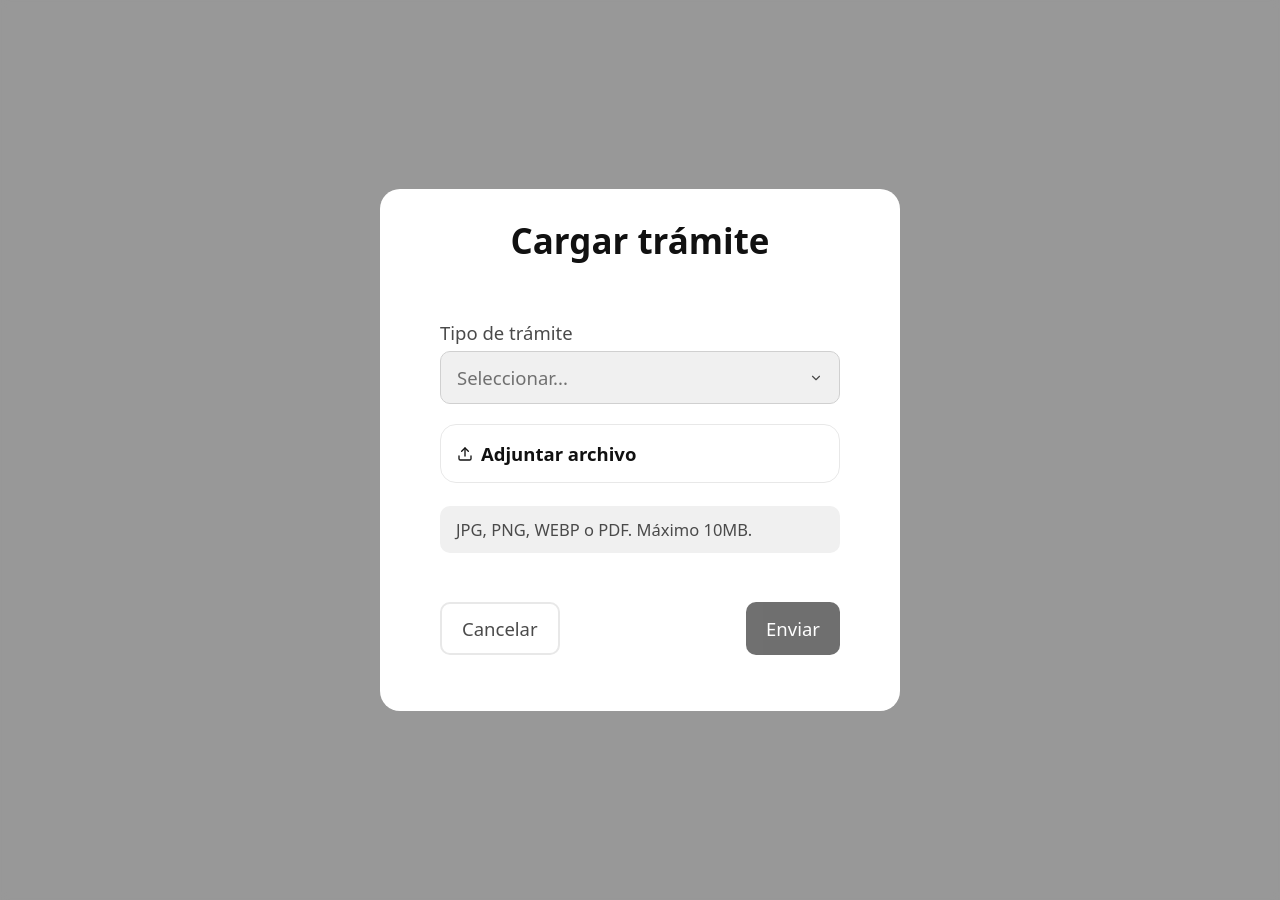
Test case: SubirTramiteForm › muestra el aviso de vencimiento si el tipo lo requiere
Select "Apto médico" in the dropdown labelled "Tipo de trámite" at (506, 333), box 440,320 -> 573,346
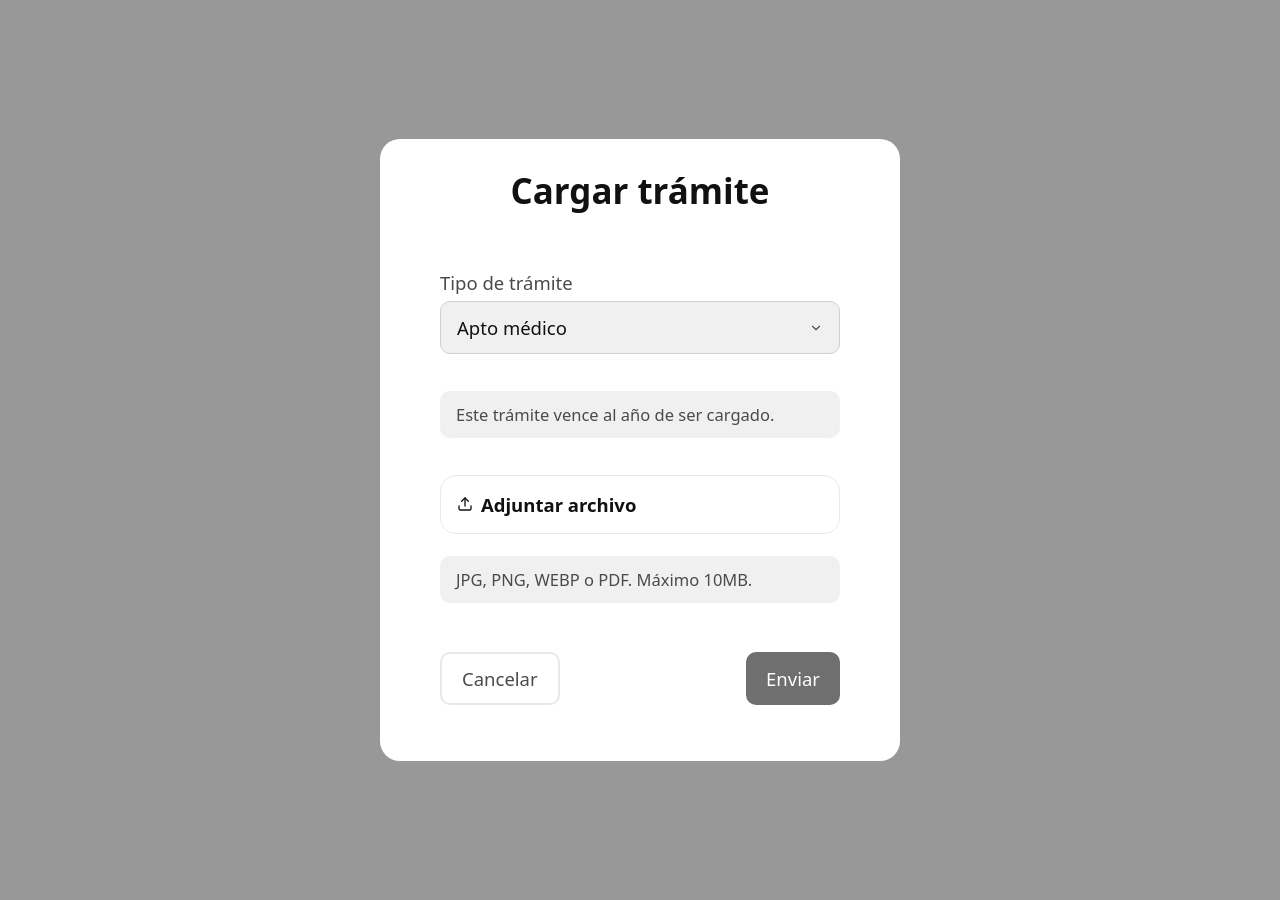
Expected: the text "Este trámite vence al año de ser cargado." is shown, 440,391 -> 840,438
